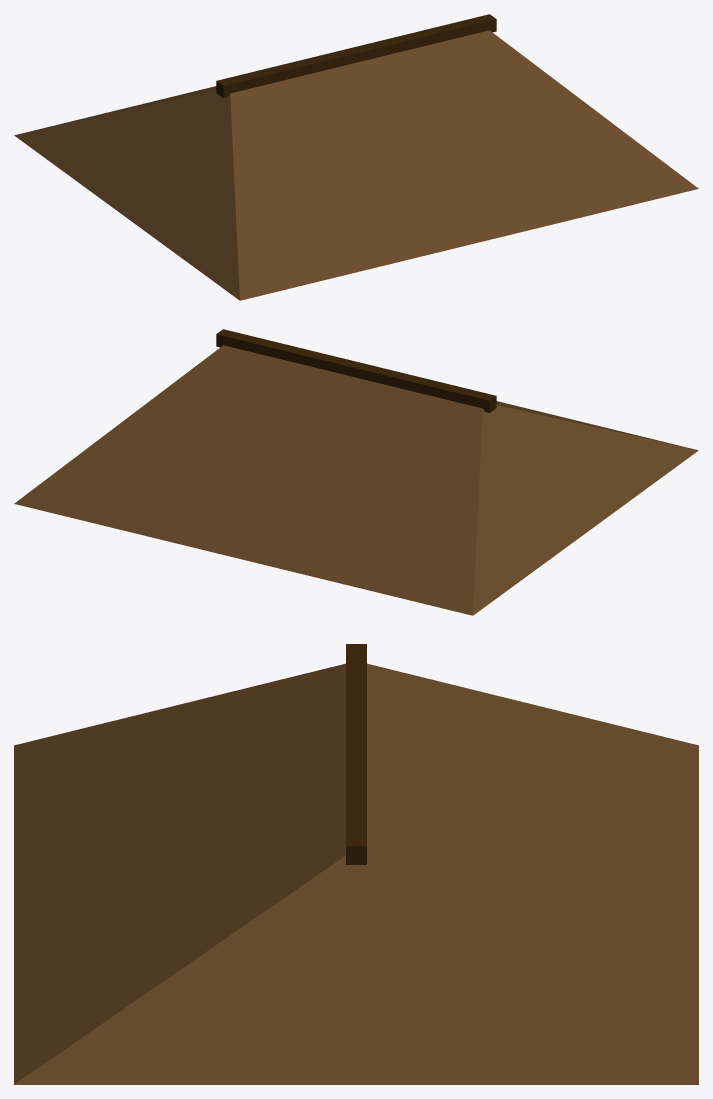
The model's file is building_shell_service_roof.glb.
3 renders of one model, top to bottom at view 1: azimuth 30°, elevation 25°; view 2: azimuth 150°, elevation 25°; view 3: azimuth 270°, elevation 25°, orthographic. The views are drawn at different scales.
Visible parts, largest first — view 1: building_shell_service_roof; view 2: building_shell_service_roof; view 3: building_shell_service_roof.
Part boxes in pixels (bbox=[...]): building_shell_service_roof: bbox=[14, 14, 698, 300]; building_shell_service_roof: bbox=[14, 329, 698, 615]; building_shell_service_roof: bbox=[14, 644, 698, 1084].
Bounding box in the file's own units: 5.44 × 1.27 × 4.64.
